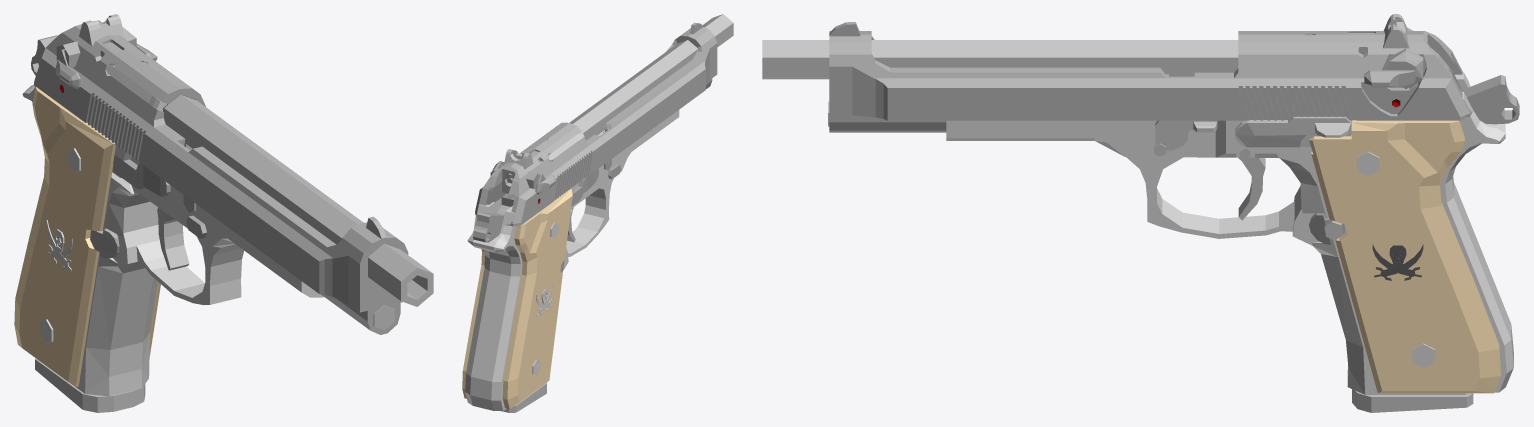
Rendered from Cutlass.fbx.
3 views of the same model, side by side, from view 1: azimuth 30°, elevation 25°; view 2: azimuth 150°, elevation 25°; view 3: azimuth 270°, elevation 25° (orthographic). The views are drawn at different scales.
Parts seen in each view (by area): view 1: Cutlass, Magazine; view 2: Cutlass, Magazine; view 3: Cutlass, Magazine.
Part boxes in pixels (x1=…): Cutlass: x1=14, y1=14, x2=433, y2=396; Magazine: x1=35, y1=358, x2=145, y2=412; Cutlass: x1=462, y1=14, x2=733, y2=411; Magazine: x1=503, y1=382, x2=546, y2=412; Cutlass: x1=762, y1=14, x2=1519, y2=394; Magazine: x1=1352, y1=389, x2=1473, y2=412.
Bounding box in the file's own units: 142 × 538 × 982.
